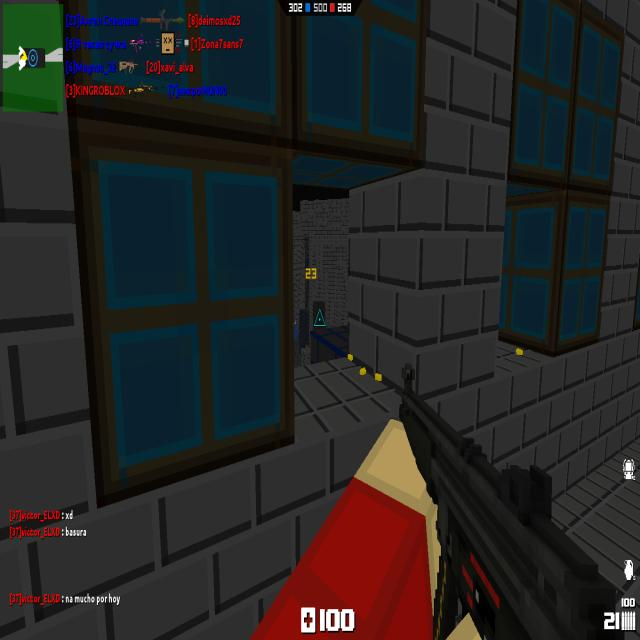enemy: (293, 316, 298, 344)
